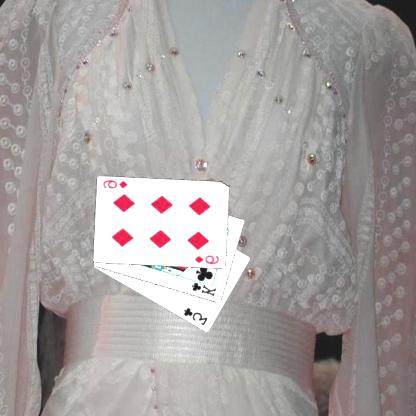3C: (183, 305, 211, 327)
6D: (194, 252, 222, 266), (102, 177, 130, 190)
KC: (191, 276, 220, 298)
